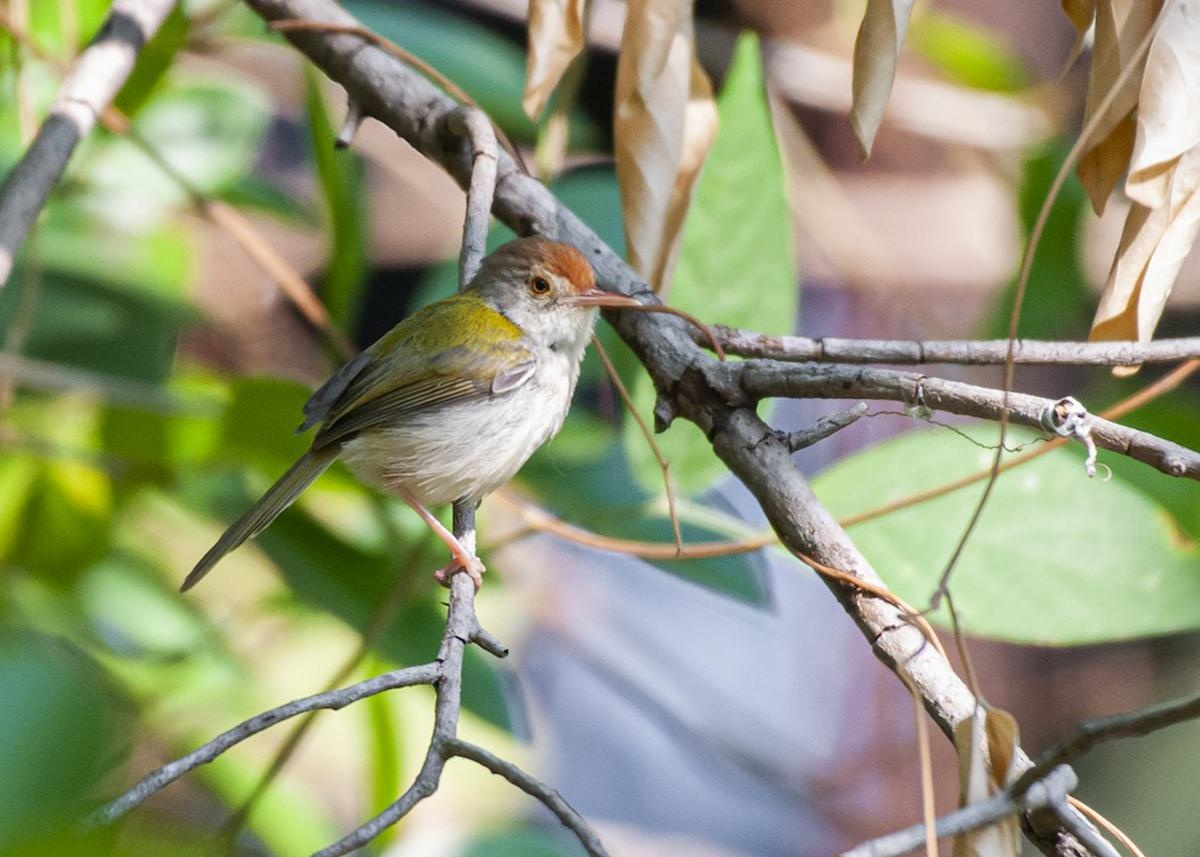tailorbird: (188, 224, 677, 611)
